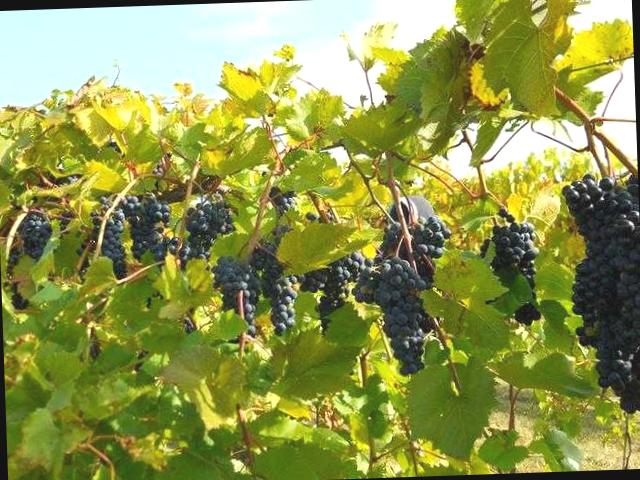Grape Ripe: (560, 170, 640, 400), (372, 253, 426, 384), (376, 193, 452, 286), (486, 210, 545, 327), (260, 228, 305, 344), (128, 182, 180, 277), (86, 196, 140, 283), (180, 182, 231, 272), (216, 250, 257, 349), (18, 203, 52, 265)
